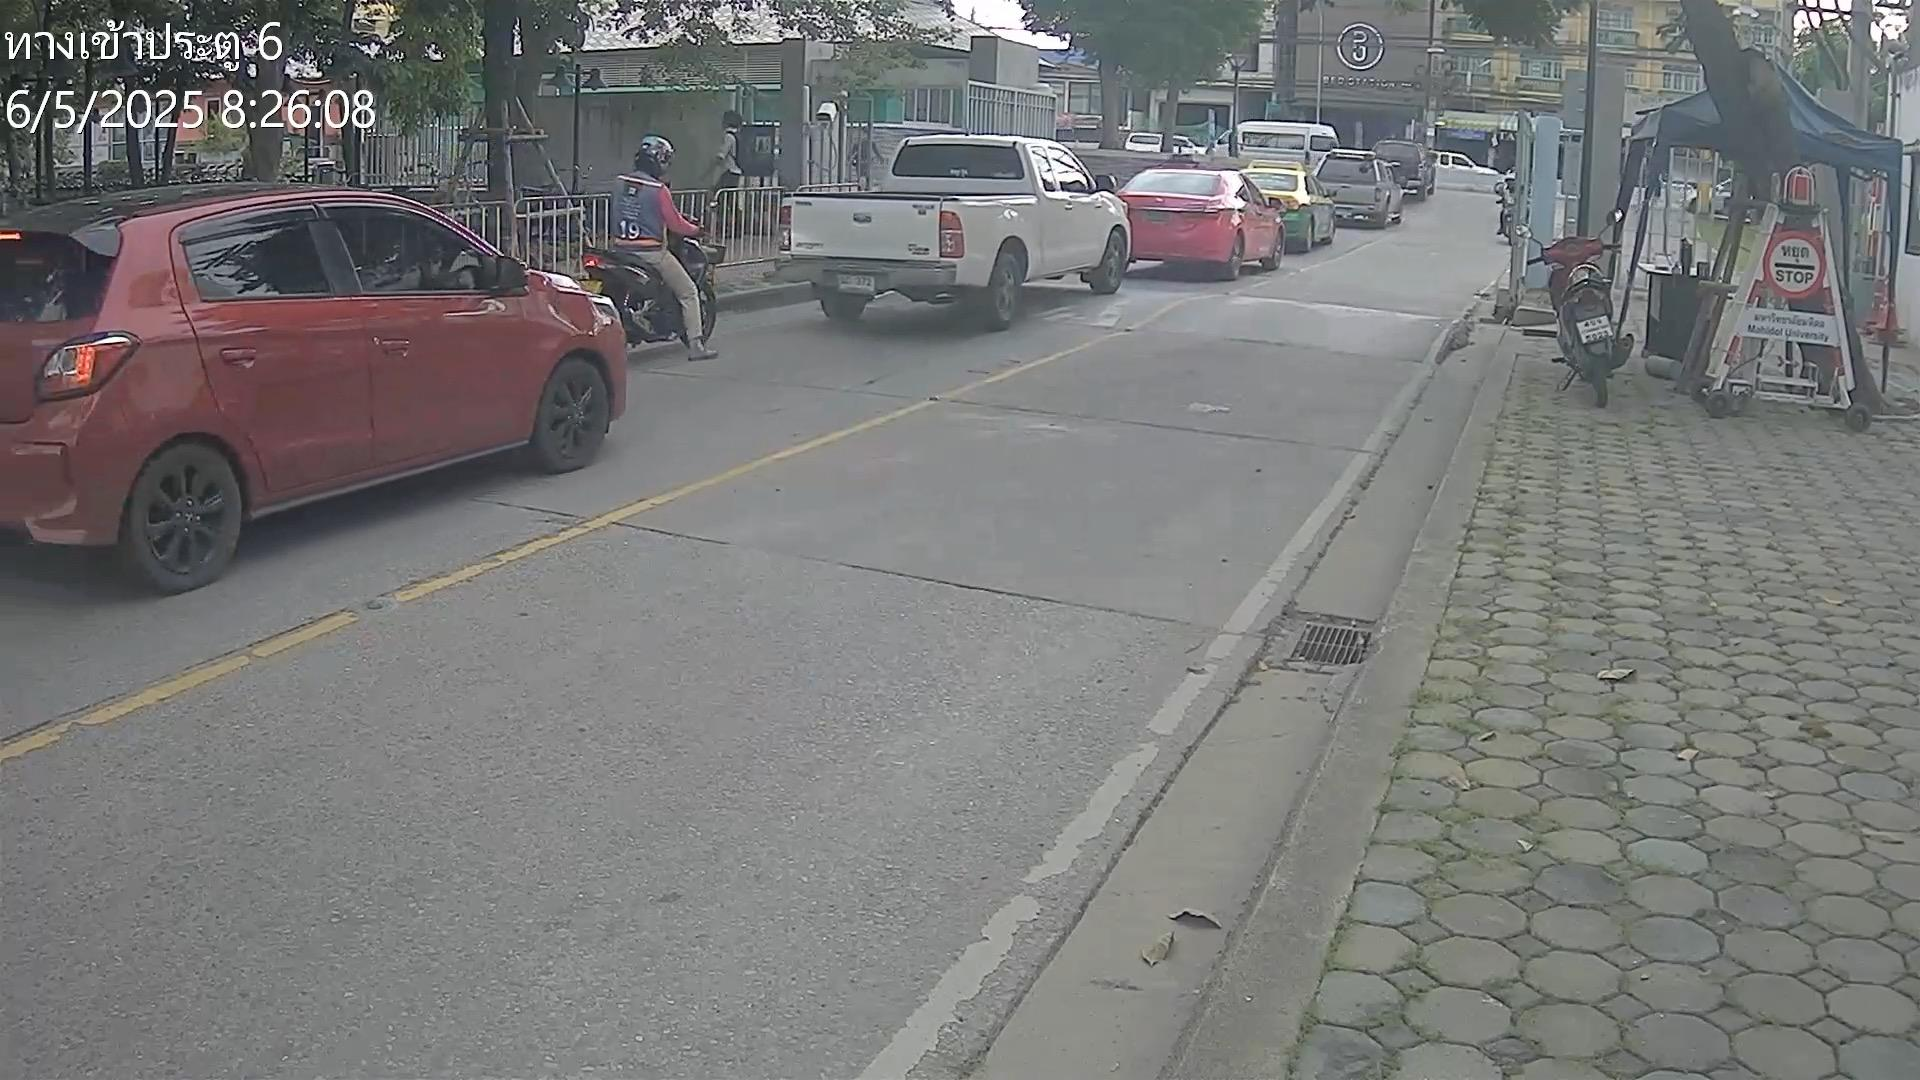With-Helmet: (632, 131, 676, 179)
